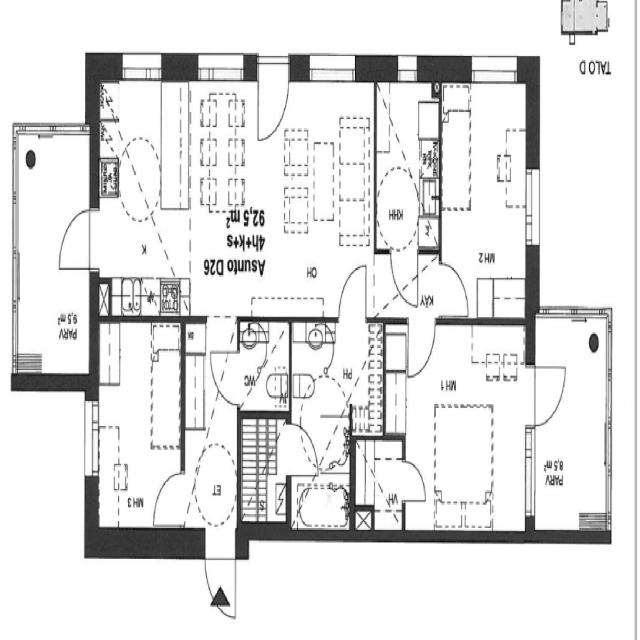door: (54, 205, 97, 284), (255, 51, 290, 148), (528, 358, 570, 429), (202, 530, 238, 610), (149, 464, 189, 530), (334, 262, 372, 329), (208, 342, 243, 410), (437, 260, 470, 318), (389, 250, 420, 310), (407, 319, 436, 382), (401, 455, 429, 506), (564, 0, 598, 33)
window: (78, 390, 104, 498), (521, 160, 543, 258), (193, 50, 248, 87), (115, 47, 166, 86), (305, 50, 360, 85), (466, 52, 522, 85), (601, 332, 615, 442), (524, 423, 537, 527), (394, 50, 421, 84), (560, 10, 568, 28)
zone: (82, 74, 314, 322), (185, 72, 372, 319), (392, 326, 534, 534), (439, 75, 530, 318), (13, 125, 95, 374), (95, 317, 184, 538), (530, 308, 612, 537), (288, 319, 352, 532), (374, 76, 439, 252), (238, 414, 287, 524), (353, 434, 405, 536), (239, 317, 291, 414), (347, 320, 384, 435)
